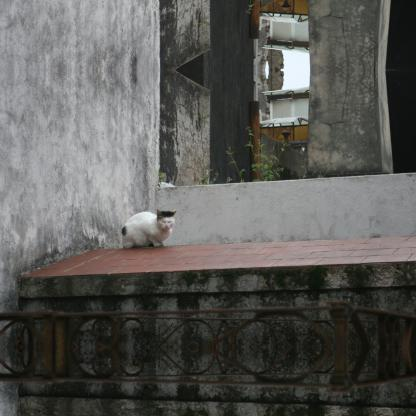Cat: (121, 206, 176, 247)
